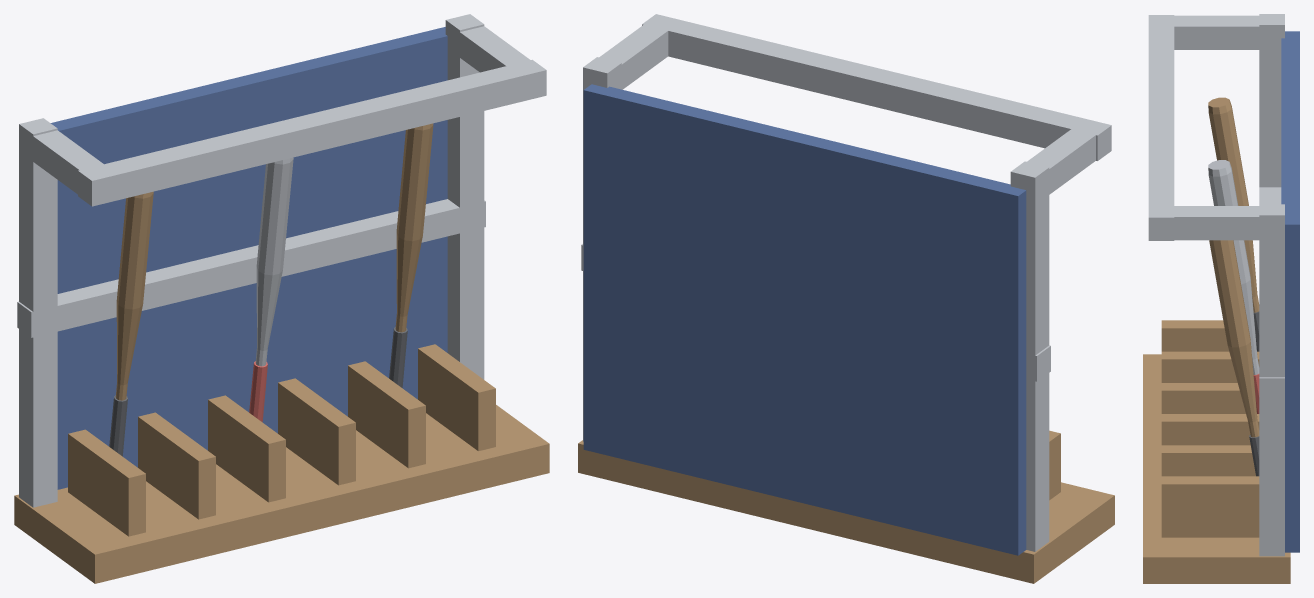
File: baseball-park-and-batting-cages-bat-rack-4a03bbf0__33775.glb
The picture shows the model from 3 angles, left to right: view 1: azimuth 30°, elevation 25°; view 2: azimuth 150°, elevation 25°; view 3: azimuth 270°, elevation 25°; orthographic projection. The views are drawn at different scales.
Parts seen in each view (by area): view 1: bat-rack; view 2: bat-rack; view 3: bat-rack.
Part boxes in pixels (x1,y1,x2,y2): bat-rack: (14,14,549,583); bat-rack: (578,14,1114,583); bat-rack: (1143,14,1299,583).
Bounding box in the file's own units: 1.3 × 1.1 × 0.425.
